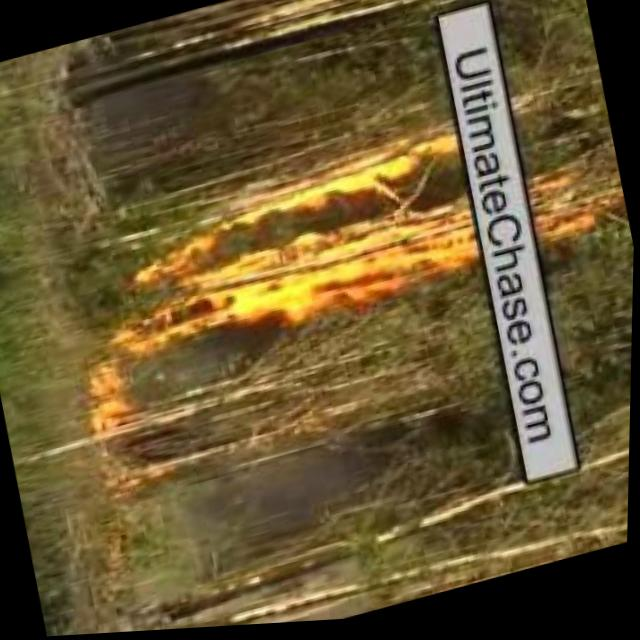Fire: (96, 123, 487, 383), (519, 158, 622, 255), (82, 357, 128, 438)
